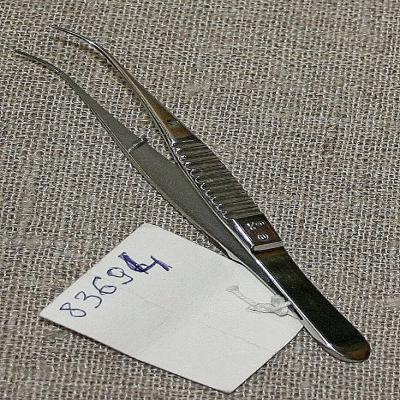other: (15, 30, 372, 364)
